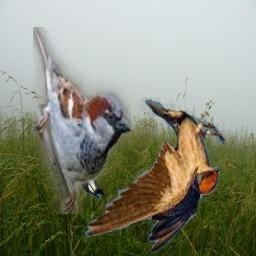Sparrow: (33, 27, 131, 214)
Swallow: (82, 89, 225, 253)
Woodpecker: (74, 164, 105, 201)
